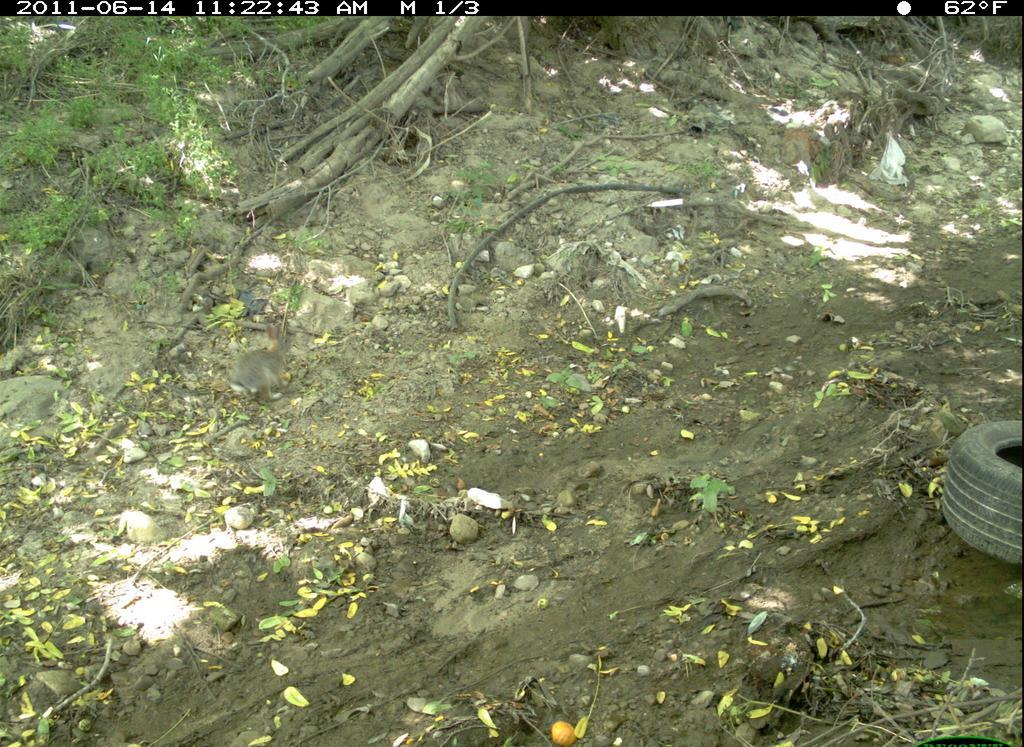rabbit: (223, 309, 301, 402)
